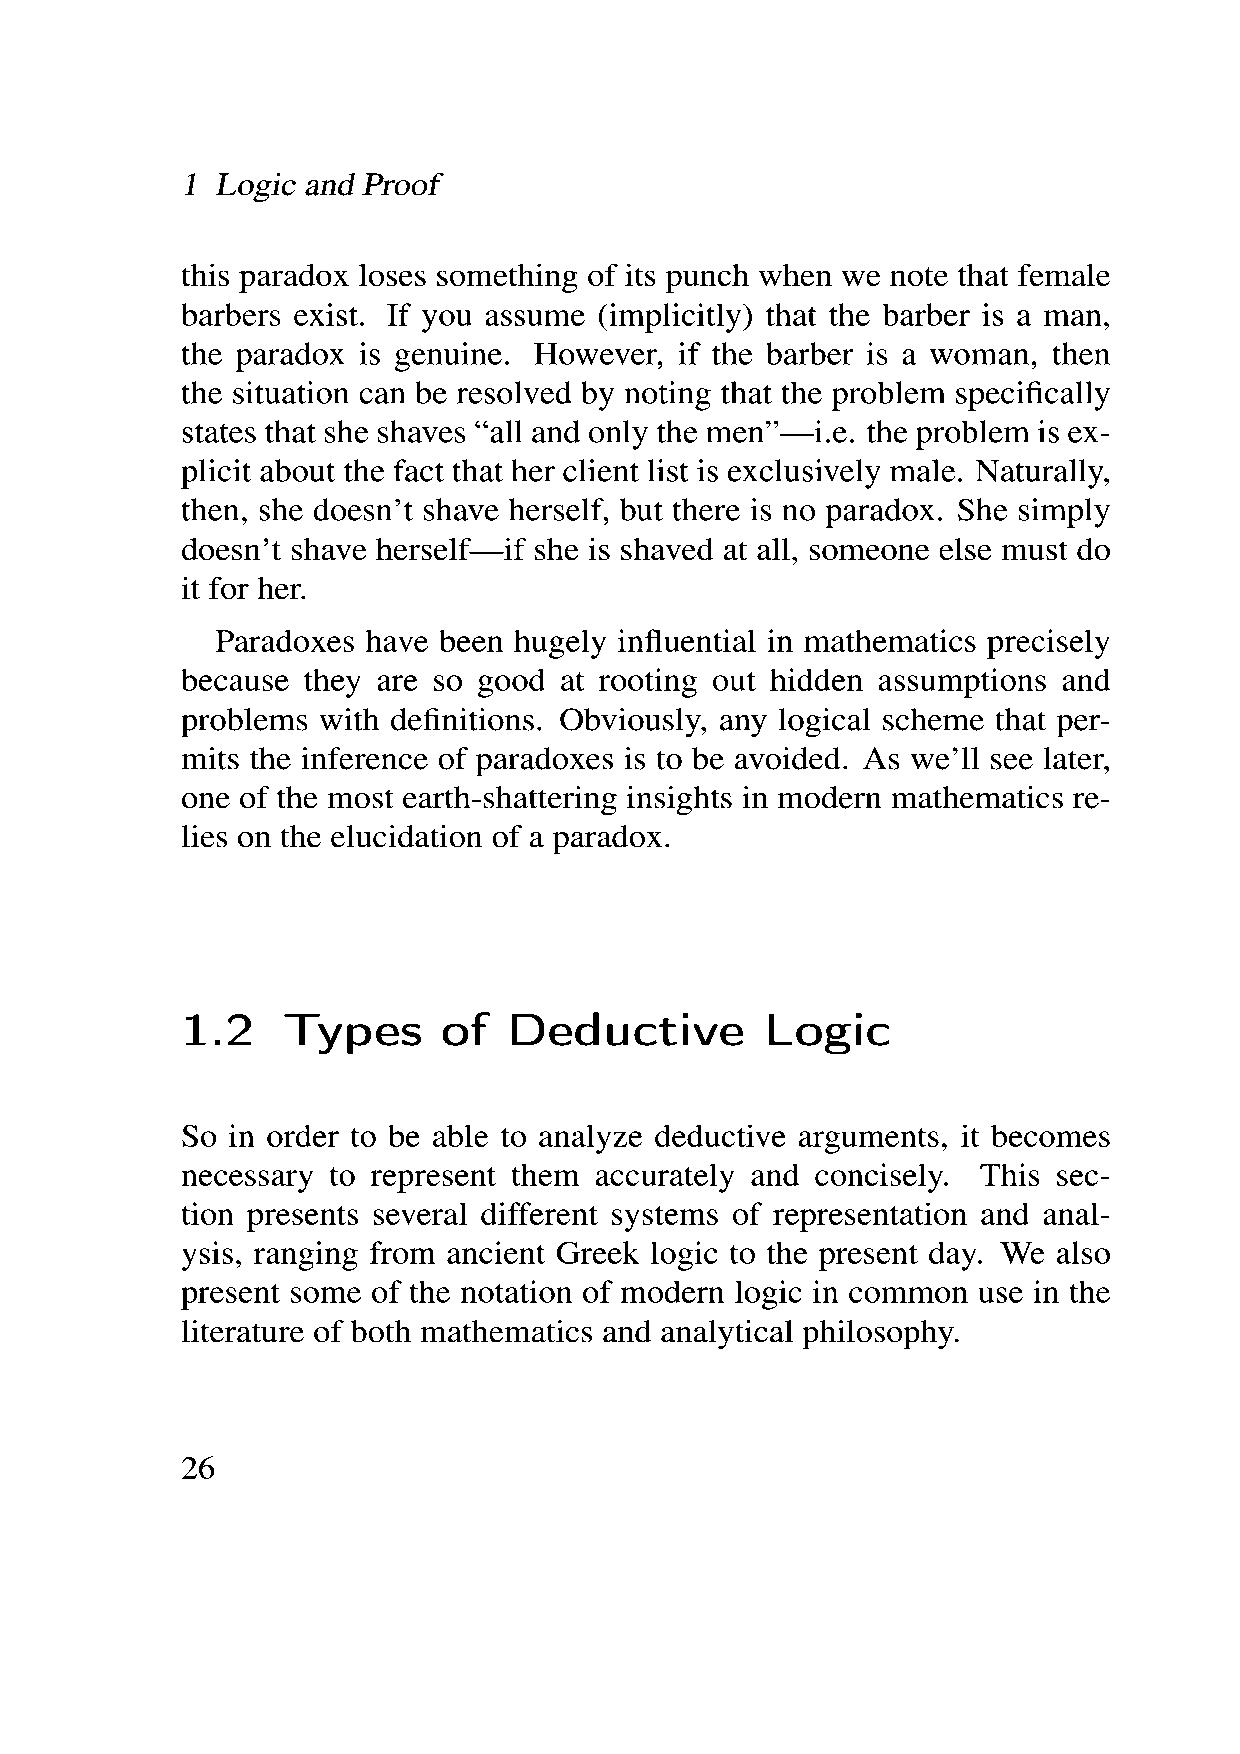chapter: (174, 1000, 892, 1055)
content: (172, 256, 1115, 855), (178, 1117, 1113, 1347)
content_pagenumber: (174, 1445, 217, 1486)
